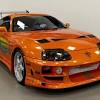Toyota: (6, 14, 99, 88)
